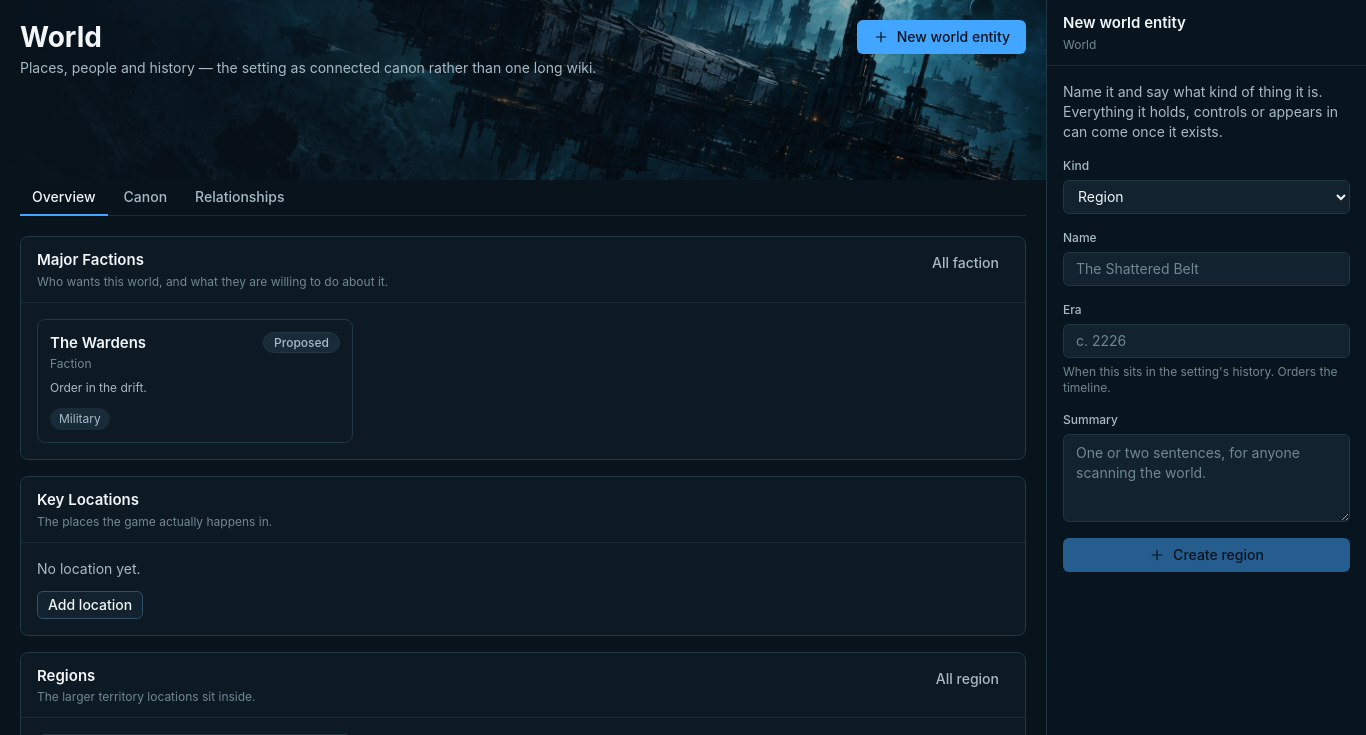
Test case: World workspace › browsing the canon › narrows by kind and by canon status, which the listing endpoint cannot filter on
The image size is (1366, 735).
Check: the heading "Major Factions" is shown, box [37,250,144,269]
Click the tab "Canon" at (145, 198), box [112,180,179,216]
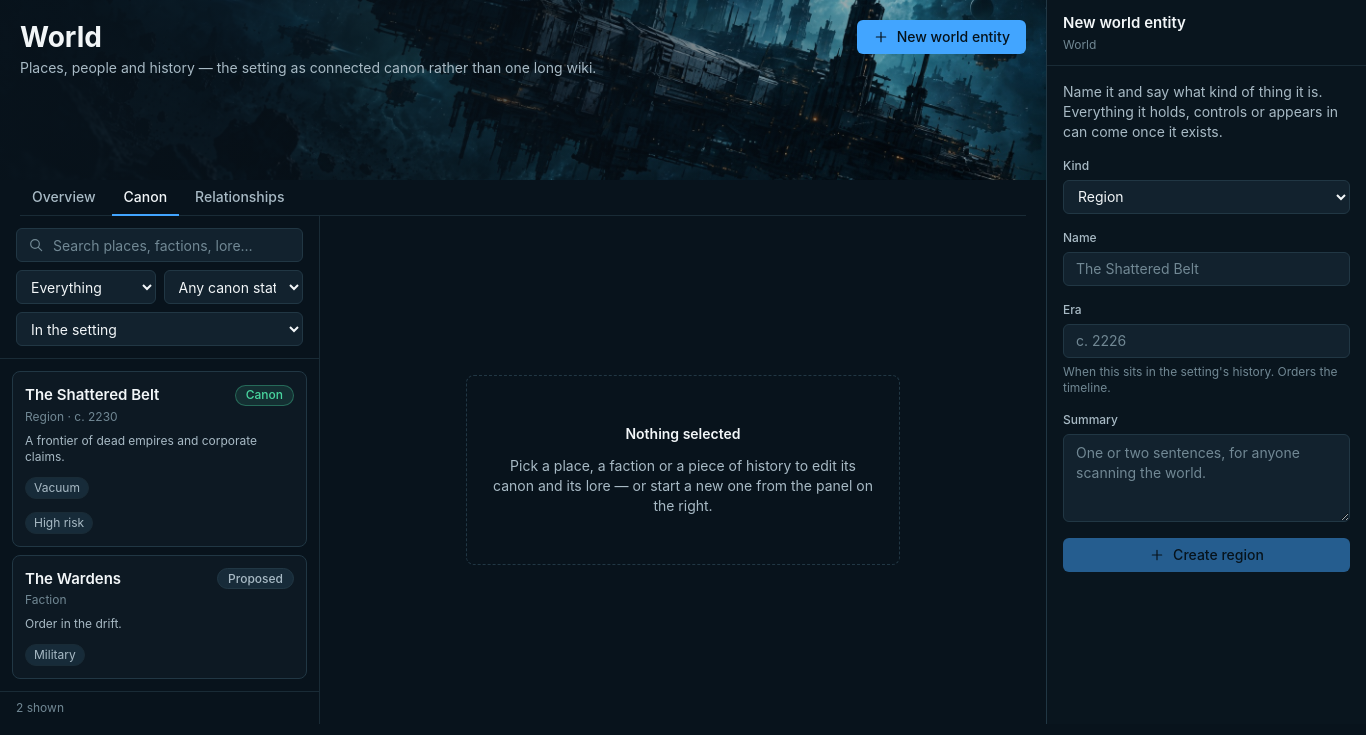
Check: the heading "The Wardens" is shown, box [25,568,121,590]
Select "Faction" in the dropdown named "Filter by kind" at (86, 287), box [16,270,156,304]
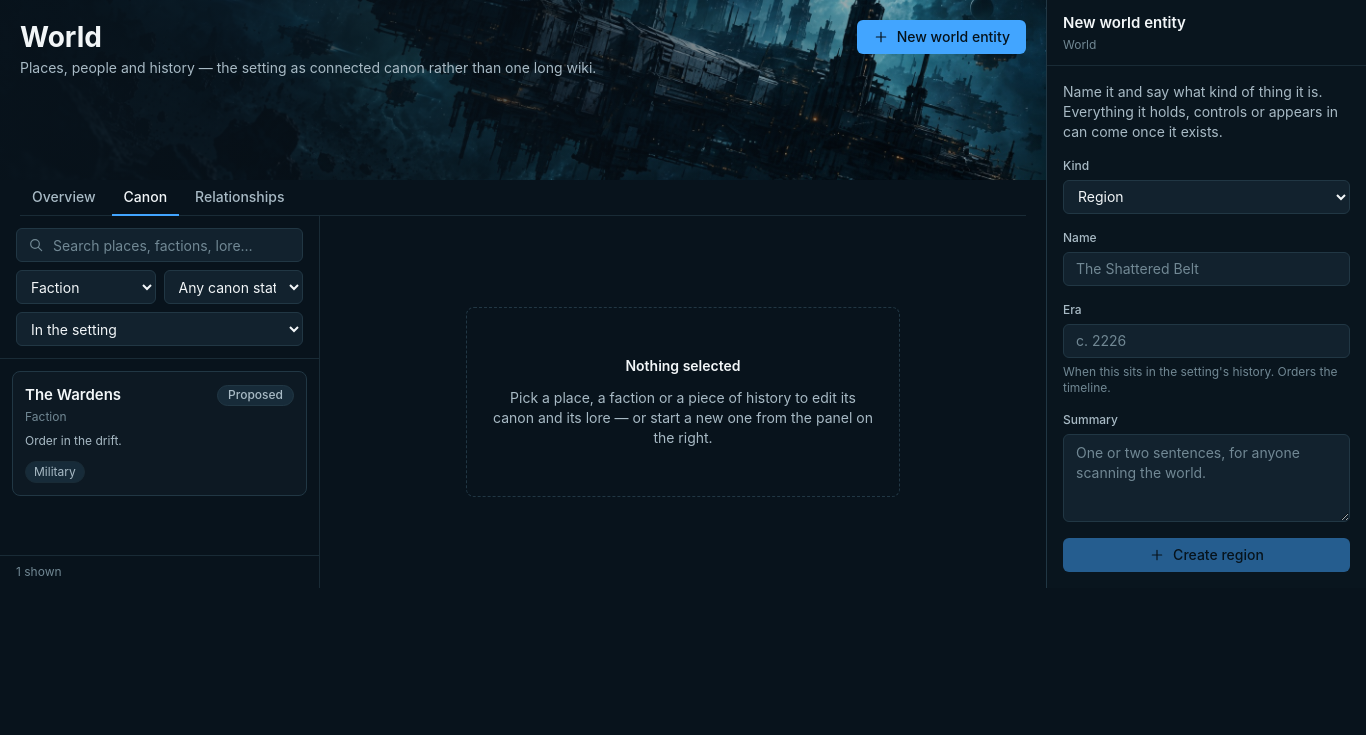
Select "Canon" in the dropdown named "Filter by canon status" at (233, 287), box [164,270,303,304]
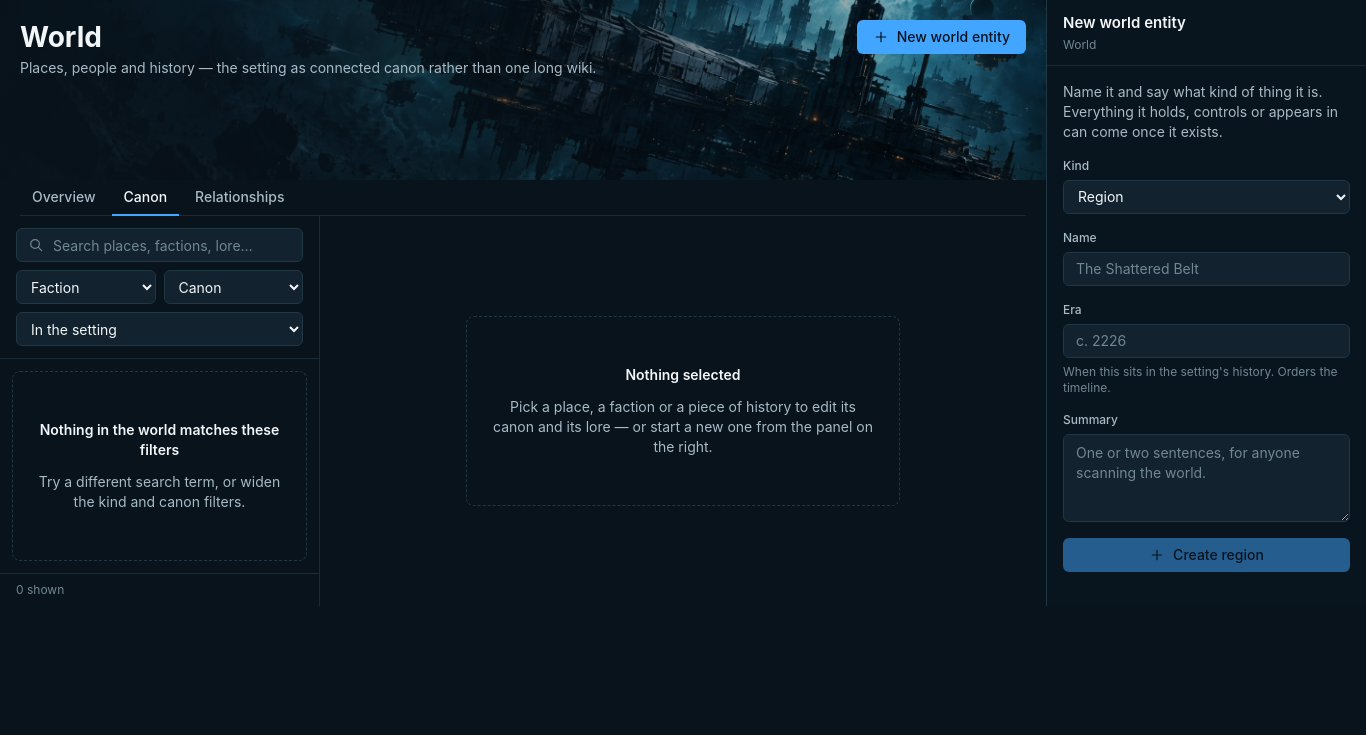
Check: the button "The Wardens" is gone
